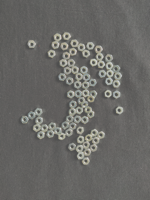nut: (27, 40, 36, 49), (51, 41, 60, 50), (60, 42, 69, 51), (67, 59, 76, 68), (48, 50, 56, 59), (70, 40, 79, 48), (77, 44, 86, 52), (86, 42, 95, 50), (95, 46, 104, 54), (97, 61, 106, 69), (105, 62, 114, 70), (105, 78, 114, 86), (58, 73, 67, 81), (66, 77, 74, 86), (37, 131, 45, 140), (48, 123, 57, 131), (54, 127, 62, 136), (81, 116, 89, 125), (68, 143, 76, 152), (54, 34, 62, 42), (63, 32, 71, 40), (69, 48, 77, 56), (63, 52, 71, 60), (82, 50, 90, 58), (105, 54, 113, 62), (90, 59, 98, 67), (113, 65, 121, 73), (99, 70, 107, 78), (107, 70, 115, 78), (113, 80, 121, 88), (113, 91, 121, 99), (116, 107, 124, 115), (60, 59, 68, 67), (64, 67, 72, 75), (75, 73, 83, 81), (83, 74, 91, 82), (74, 81, 82, 89), (82, 82, 90, 90), (89, 79, 97, 87), (67, 91, 75, 99), (82, 90, 90, 98), (69, 101, 77, 109), (85, 107, 93, 115), (87, 111, 95, 119), (76, 107, 84, 115), (66, 116, 74, 124), (28, 112, 36, 120), (35, 108, 43, 116), (35, 117, 43, 125), (33, 124, 41, 132), (41, 125, 49, 133), (58, 133, 66, 141), (74, 116, 82, 124), (69, 123, 77, 131), (76, 127, 84, 135), (77, 136, 85, 144), (85, 134, 93, 142), (98, 132, 106, 140), (90, 145, 98, 153), (76, 145, 84, 153), (84, 149, 92, 157), (82, 158, 90, 166), (114, 73, 123, 80), (72, 66, 79, 75), (81, 66, 88, 75), (96, 54, 104, 61), (105, 90, 112, 98), (75, 90, 82, 98), (90, 91, 98, 98), (78, 98, 86, 105), (69, 108, 76, 116), (21, 117, 29, 124), (47, 131, 55, 138), (62, 122, 69, 130), (66, 129, 73, 137), (91, 130, 99, 137), (93, 137, 100, 145), (83, 142, 90, 150), (77, 153, 85, 160), (88, 96, 95, 103), (81, 101, 88, 108)
